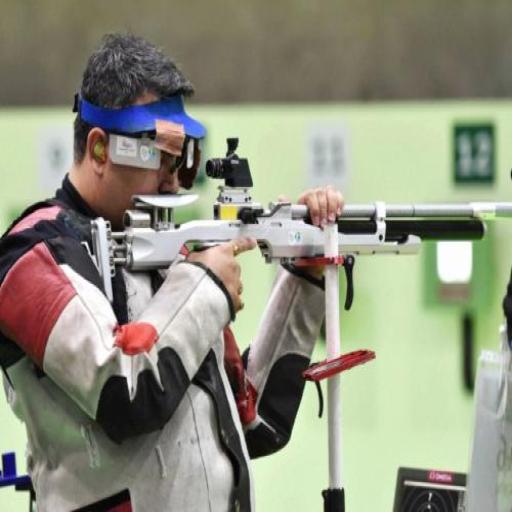shooting: (0, 30, 347, 511)
